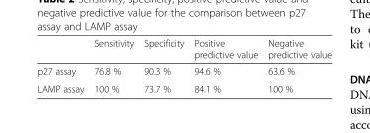table: (36, 37, 331, 93)
table column: (188, 37, 262, 93), (262, 37, 331, 93), (36, 37, 88, 93), (88, 37, 138, 93), (138, 37, 188, 93)
table column header: (36, 37, 331, 62)
table row: (36, 37, 331, 62), (36, 62, 331, 79), (36, 79, 331, 93)
